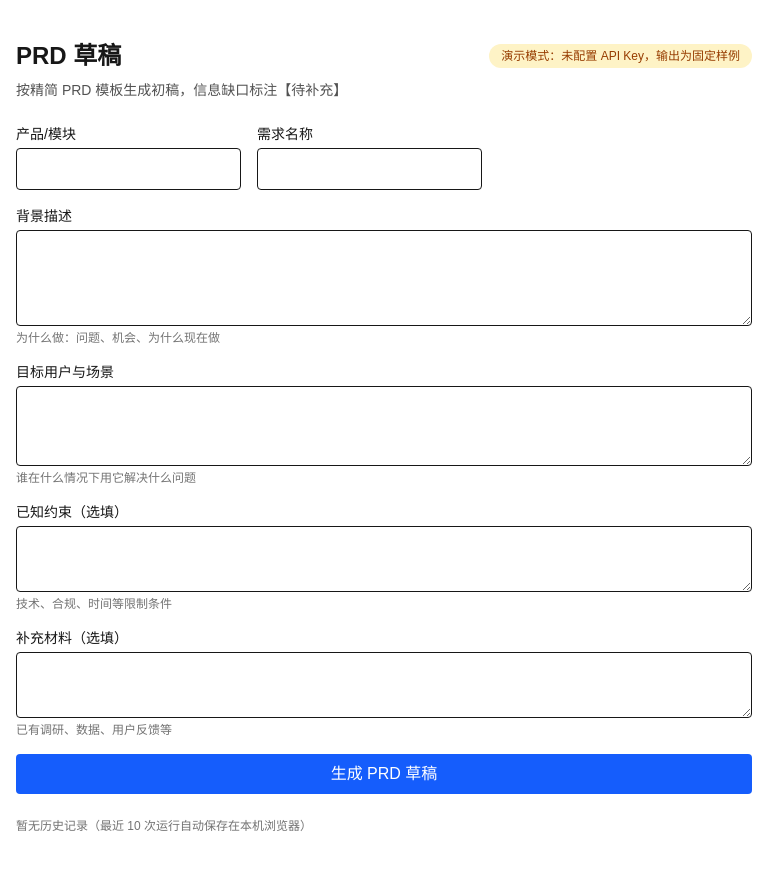
ToolWorkbench › PRD：流式输出 fixture 并写入历史
Type "随手记账" into the field labelled "产品/模块" at (128, 169), box [16, 148, 241, 190]
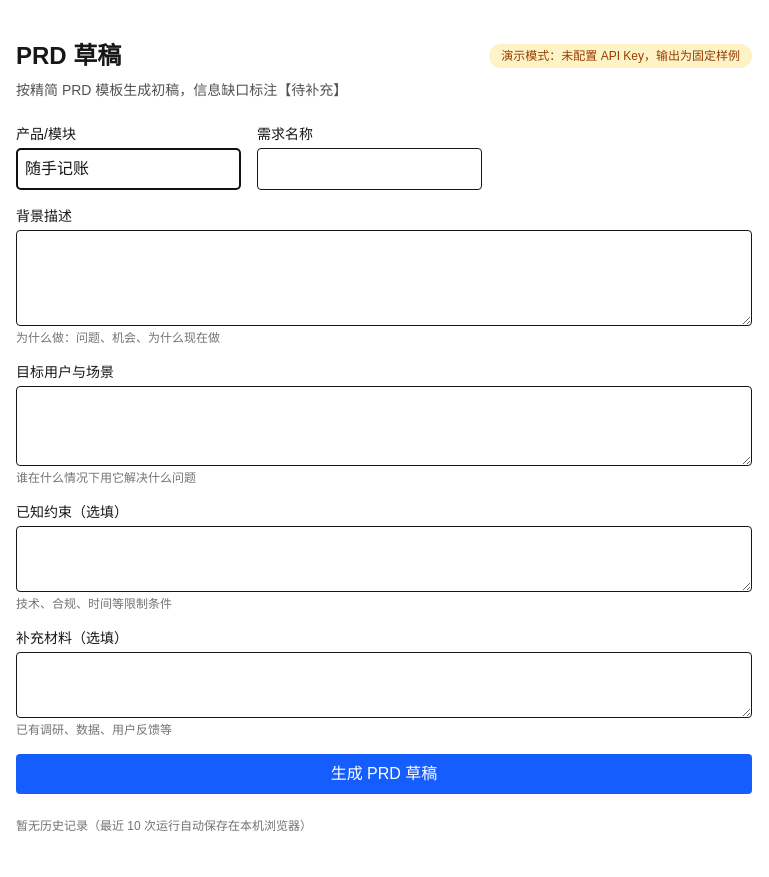
Type "月度报告导出 PDF" into the field labelled "需求名称" at (370, 169), box [257, 148, 482, 190]
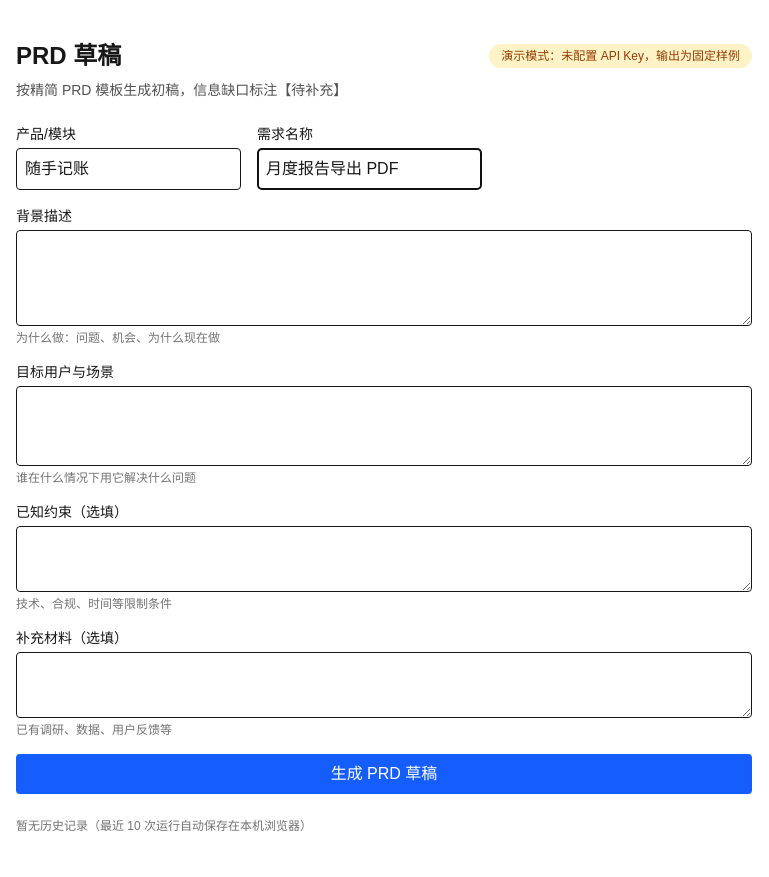
Type "用户只能截图分享报告，排版差" into the text box labelled "背景描述" at (384, 278), box [16, 230, 752, 326]
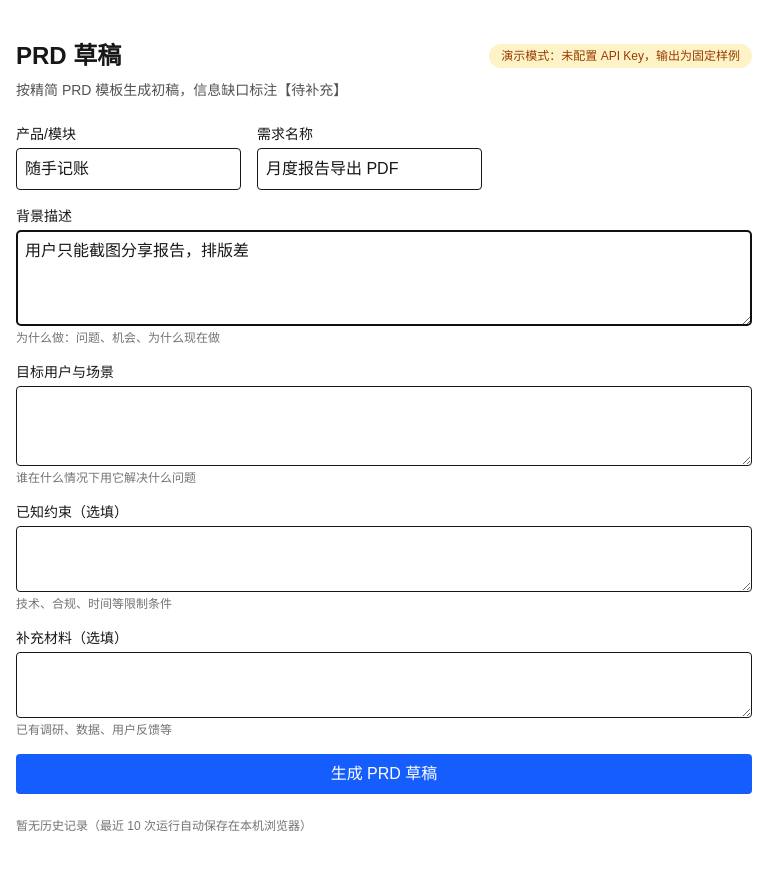
Type "大学生月底分享报告给家人" into the text box labelled "目标用户与场景" at (384, 426), box [16, 386, 752, 466]
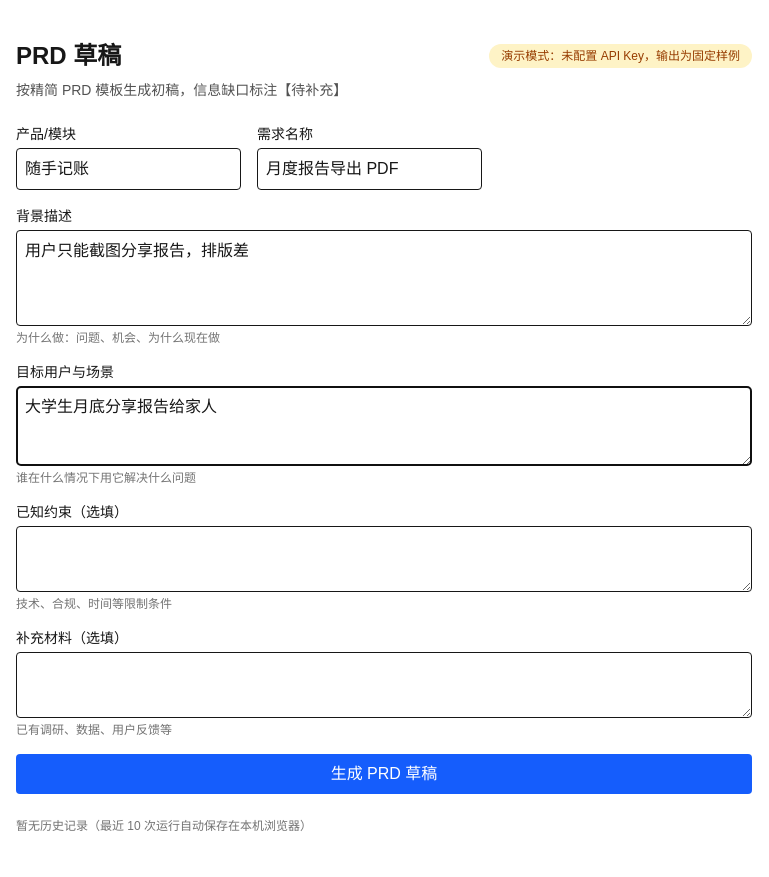
Click the button "生成 PRD 草稿" at (384, 774), box [16, 754, 752, 794]
(page scrolled)
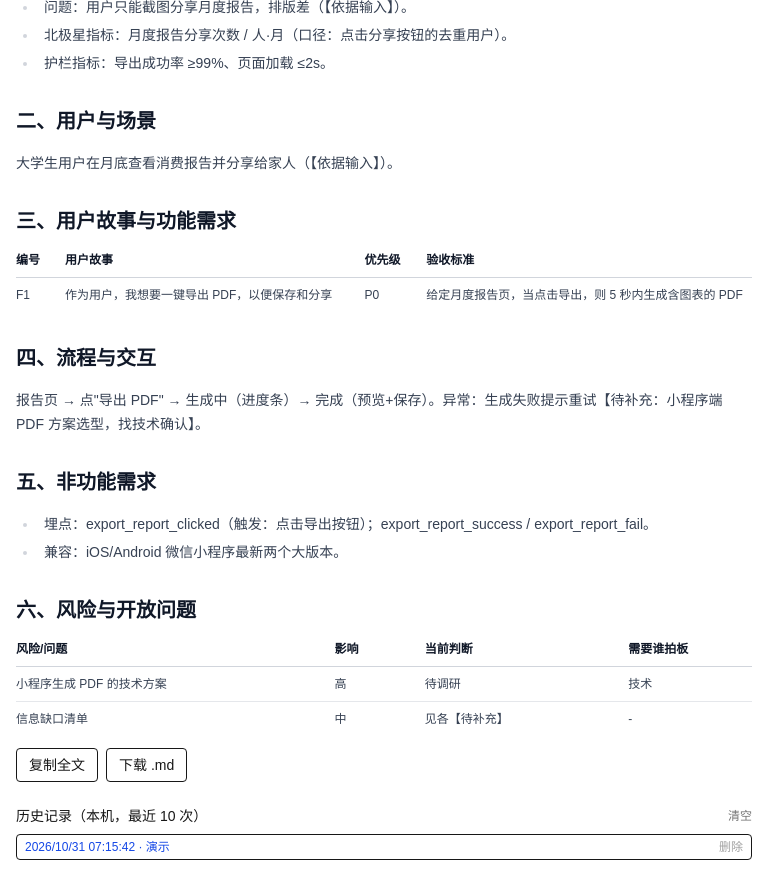
Expected: the element with test id "tool-output" shows "六、风险与开放问题", [16, 599, 196, 621]
Expected: the button "下载 .md" is shown, [106, 748, 187, 782]
